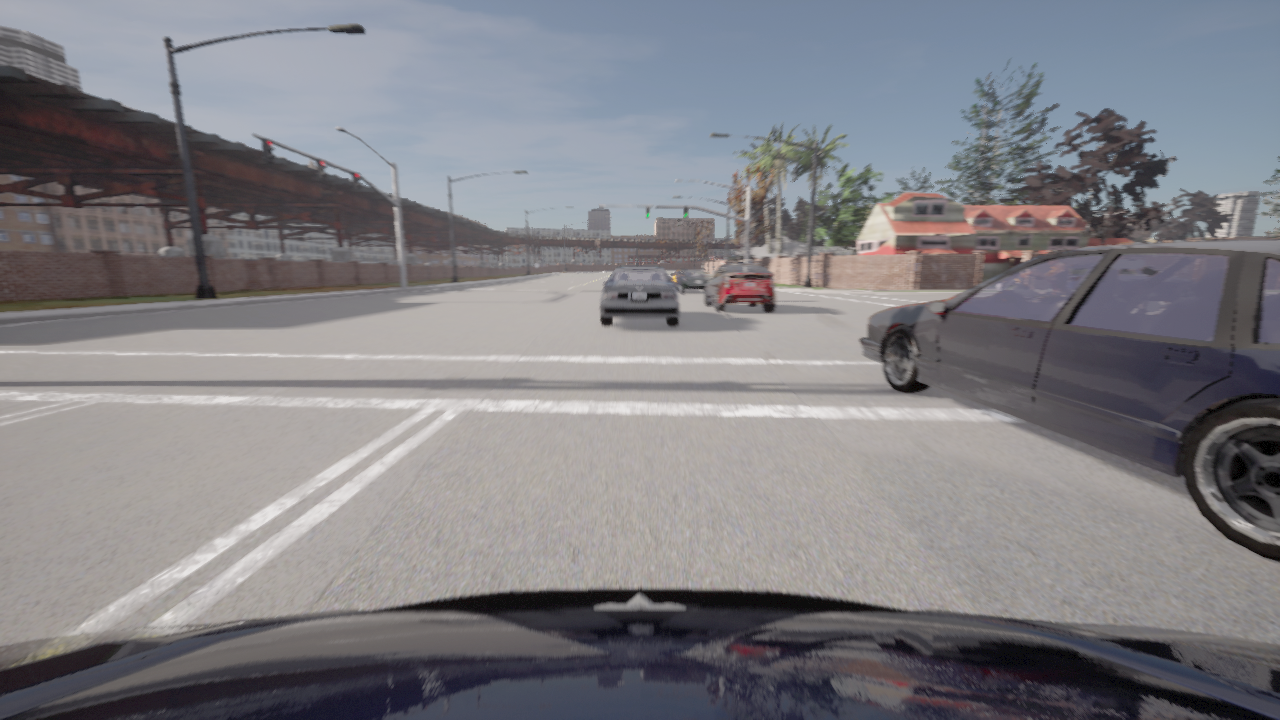cyclist: (0, 588, 1279, 719), (860, 239, 1279, 561), (600, 265, 678, 324), (705, 263, 775, 311), (676, 270, 710, 292), (671, 268, 686, 281)
